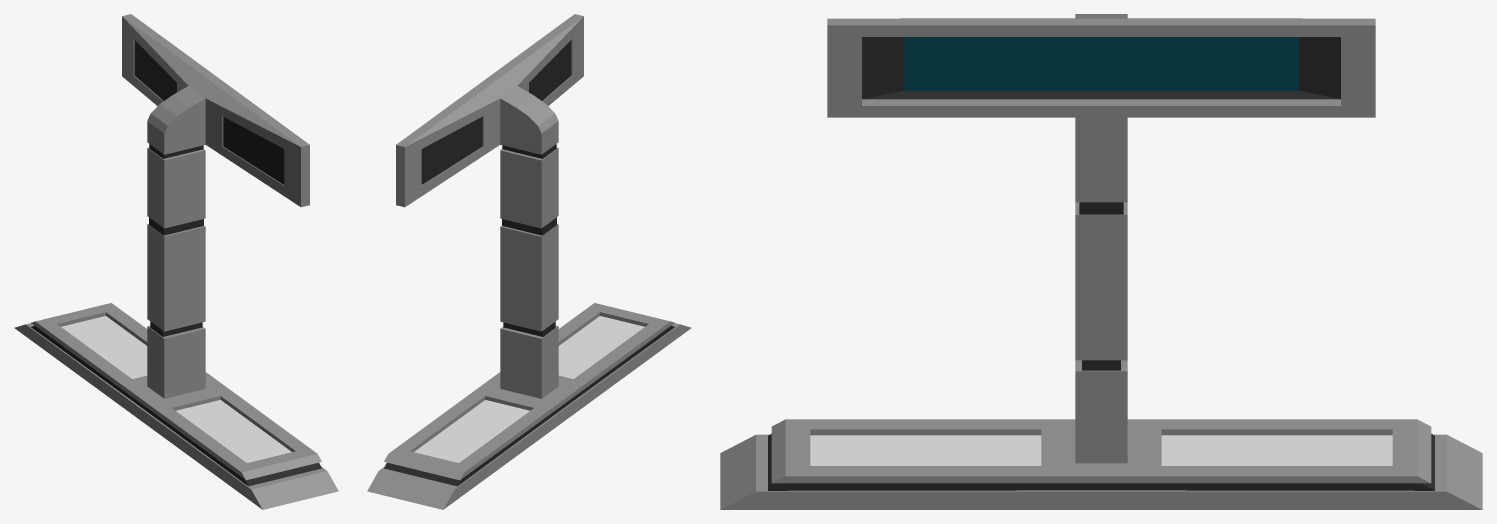
File: lightHolo.fbx
3 renders of one model, left to right at view 1: azimuth 30°, elevation 25°; view 2: azimuth 150°, elevation 25°; view 3: azimuth 270°, elevation 25°, orthographic. The views are drawn at different scales.
Parts seen in each view (by area): view 1: Cube.001; view 2: Cube.001; view 3: Cube.001.
Part boxes in pixels (x1=…): Cube.001: x1=14, y1=14, x2=338, y2=509; Cube.001: x1=367, y1=14, x2=691, y2=509; Cube.001: x1=720, y1=14, x2=1482, y2=509.
Size of the model in its own units: 6.96 by 25.85 by 36.5.
